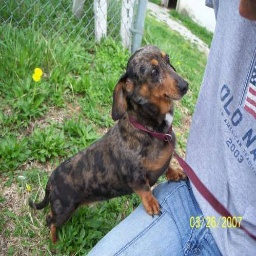dog: (30, 42, 191, 229)
